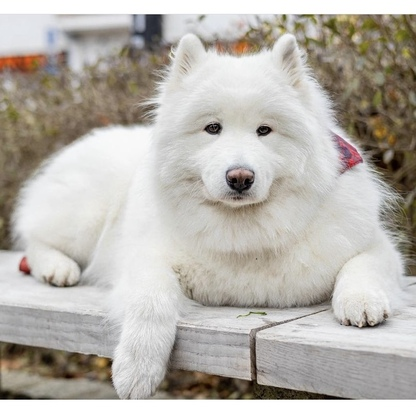samoyed: (7, 28, 407, 398)
